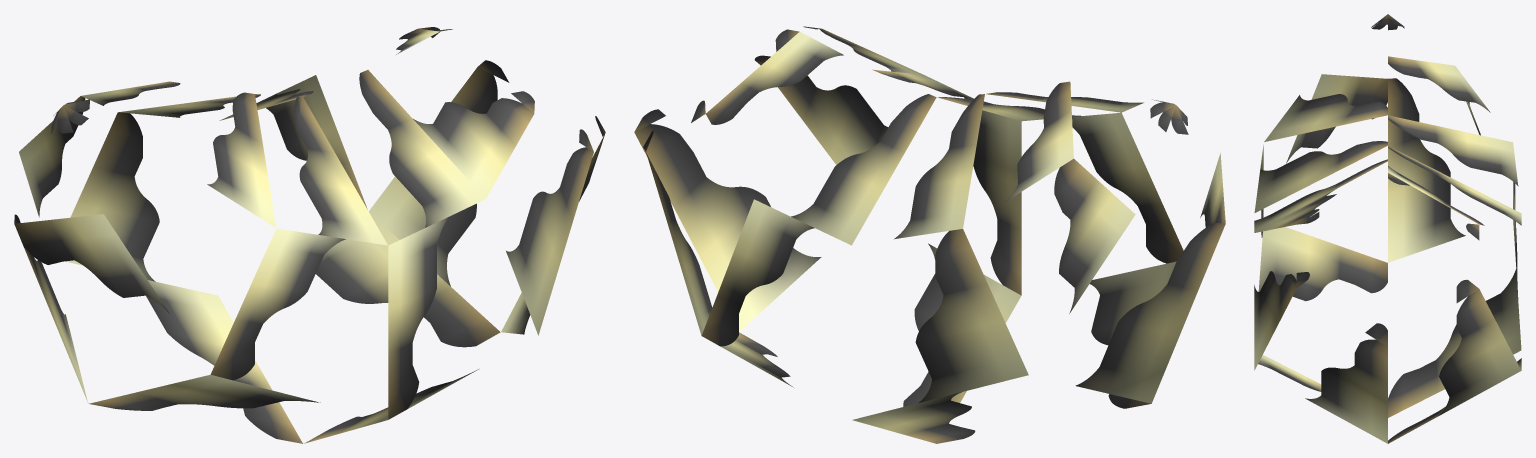
3 views of the same model, side by side, from view 1: azimuth 30°, elevation 25°; view 2: azimuth 150°, elevation 25°; view 3: azimuth 270°, elevation 25° (orthographic). The views are drawn at different scales.
Visible parts, largest first — view 1: T1L1M004_11; view 2: T1L1M004_11; view 3: T1L1M004_11.
Part boxes in pixels (<box>): T1L1M004_11: <box>14,27,605,443</box>; T1L1M004_11: <box>634,26,1225,443</box>; T1L1M004_11: <box>1254,14,1521,443</box>.
Bounding box in the file's own units: 0.5615 × 0.3604 × 0.2793.
